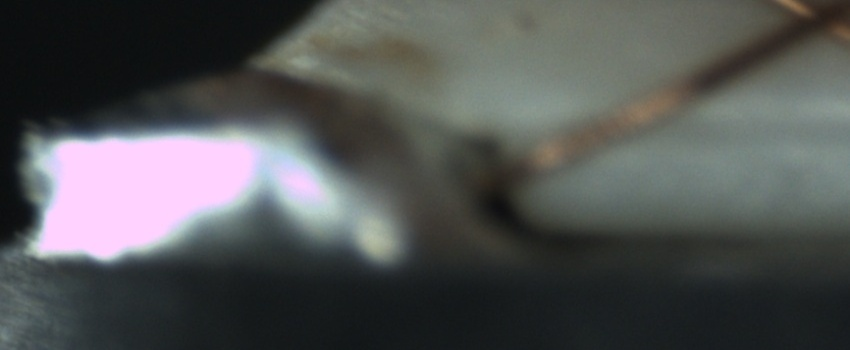CL: (766, 1, 846, 45)
DL: (614, 84, 845, 165)
